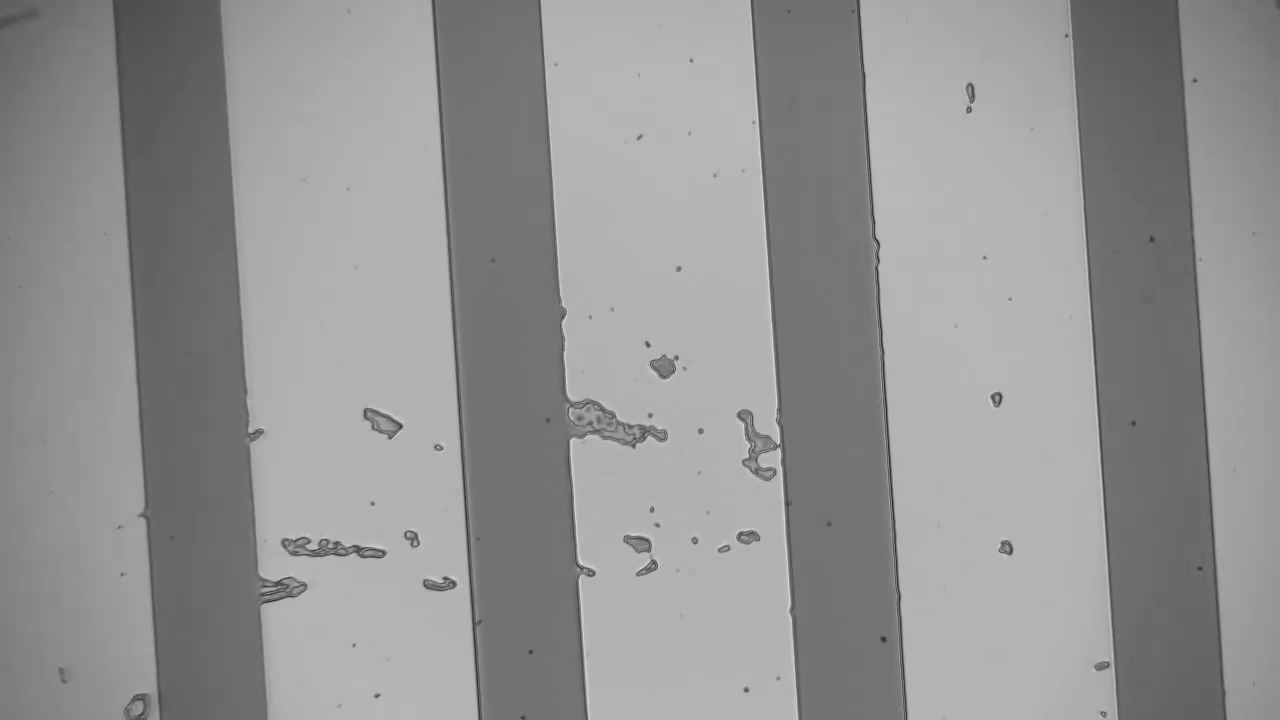edge_bite: (867, 230, 894, 266), (549, 299, 573, 323)
